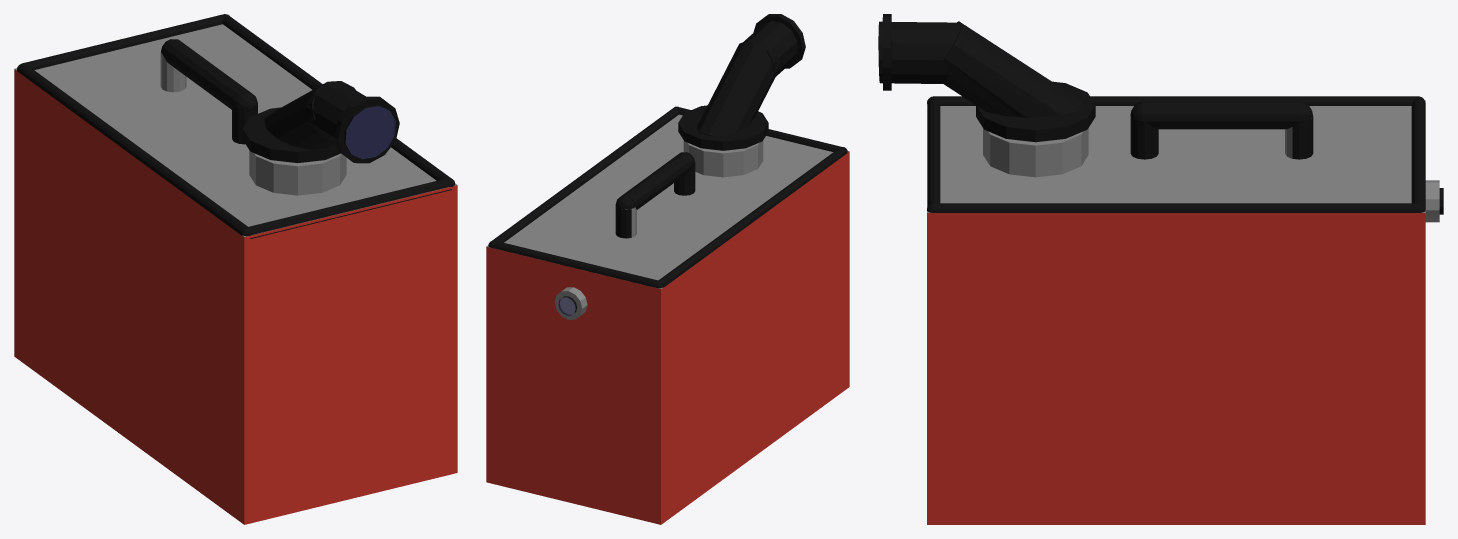
The picture shows the model from 3 angles, left to right: view 1: azimuth 30°, elevation 25°; view 2: azimuth 150°, elevation 25°; view 3: azimuth 270°, elevation 25°; orthographic projection. The views are drawn at different scales.
Parts seen in each view (by area): view 1: node_MeshObject1555130368-PolyPaper21, node_MeshObject2127209472-PolyGlass24; view 2: node_MeshObject1555130368-PolyPaper21; view 3: node_MeshObject1555130368-PolyPaper21.
Part boxes in pixels (x1,y1,x2,y2): node_MeshObject1555130368-PolyPaper21: (14, 14, 457, 524); node_MeshObject2127209472-PolyGlass24: (346, 106, 395, 158); node_MeshObject1555130368-PolyPaper21: (486, 14, 849, 524); node_MeshObject1555130368-PolyPaper21: (878, 14, 1443, 524).
Size of the model in its own units: 0.3803 by 0.7069 by 0.8046.
